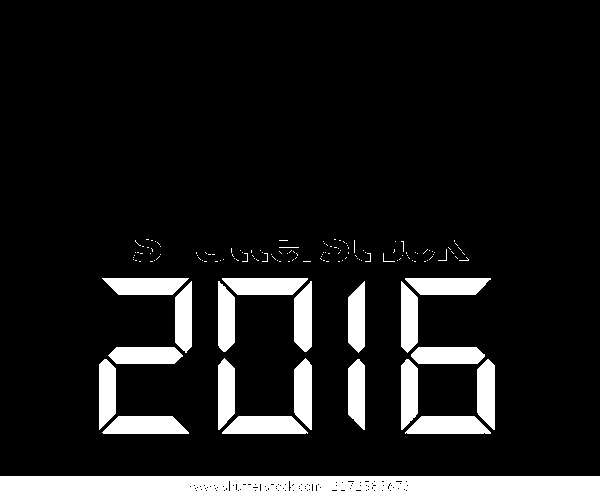one: (347, 280, 367, 429)
six: (401, 276, 495, 435)
two: (98, 278, 192, 435)
zero: (217, 277, 311, 434)
